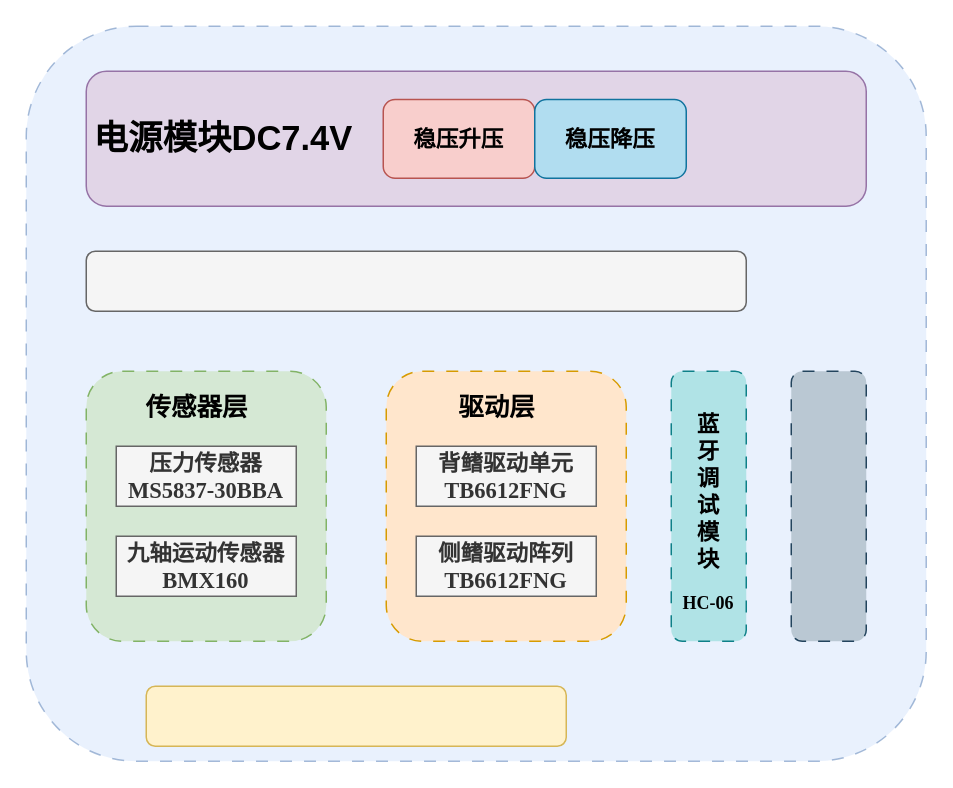
Image size: 953x788. Some labels were removed from this diagram. The shapes that lost their labels are listed below. From the top down, each one's centre as x and y in pixels, then its label:
At pixel 415 280: "STM32F103C8T6 微控制器".
At pixel 828 505: "摄像模块".
At pixel 355 715: "下载端口".
